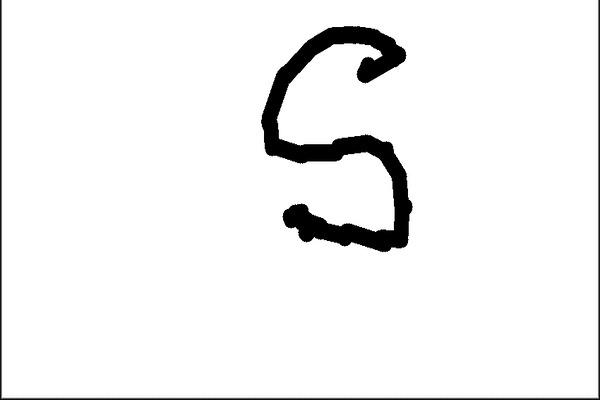S: (253, 18, 420, 257)
